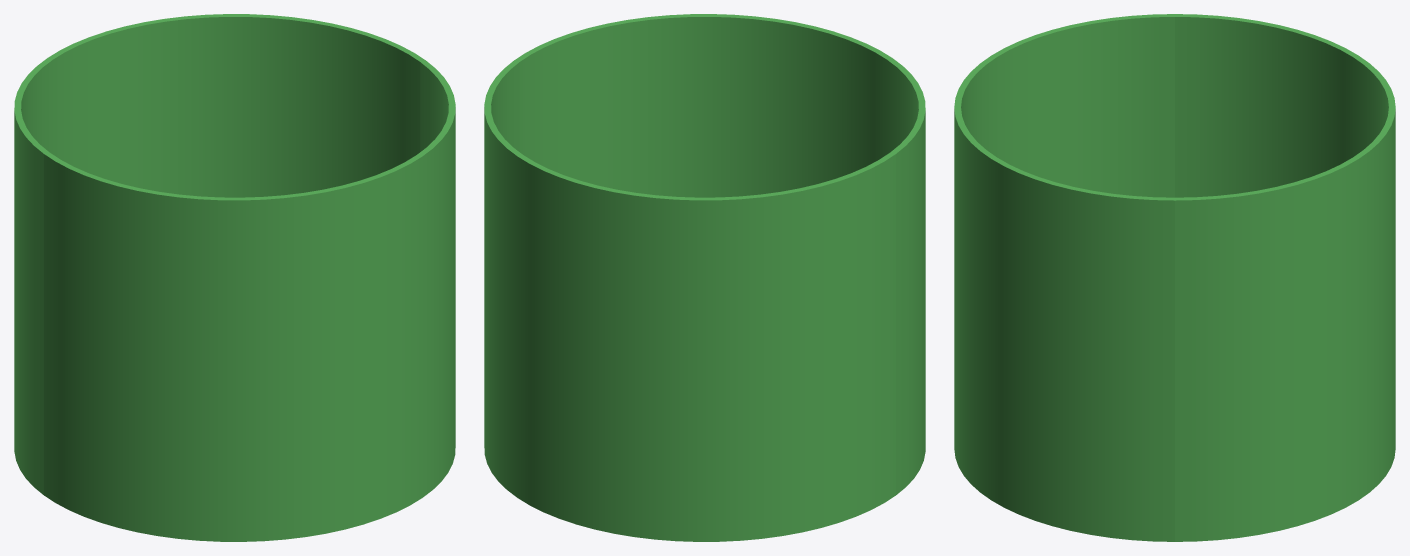
Rendered from oxalate_removal_system_temperature.glb.
3 renders of one model, left to right at view 1: azimuth 30°, elevation 25°; view 2: azimuth 150°, elevation 25°; view 3: azimuth 270°, elevation 25°, orthographic.
Parts seen in each view (by area): view 1: temperature__front, temperature__back; view 2: temperature__back, temperature__front; view 3: temperature__back, temperature__front.
Boxes of the visible parts, x1,y1,x2,y2 form: temperature__front: (44,60,455,541); temperature__back: (14,14,425,494); temperature__back: (484,60,895,541); temperature__front: (514,14,925,494); temperature__back: (1175,14,1395,541); temperature__front: (954,14,1174,541).
Bounding box in the file's own units: 1.64 × 1.4 × 1.64.
